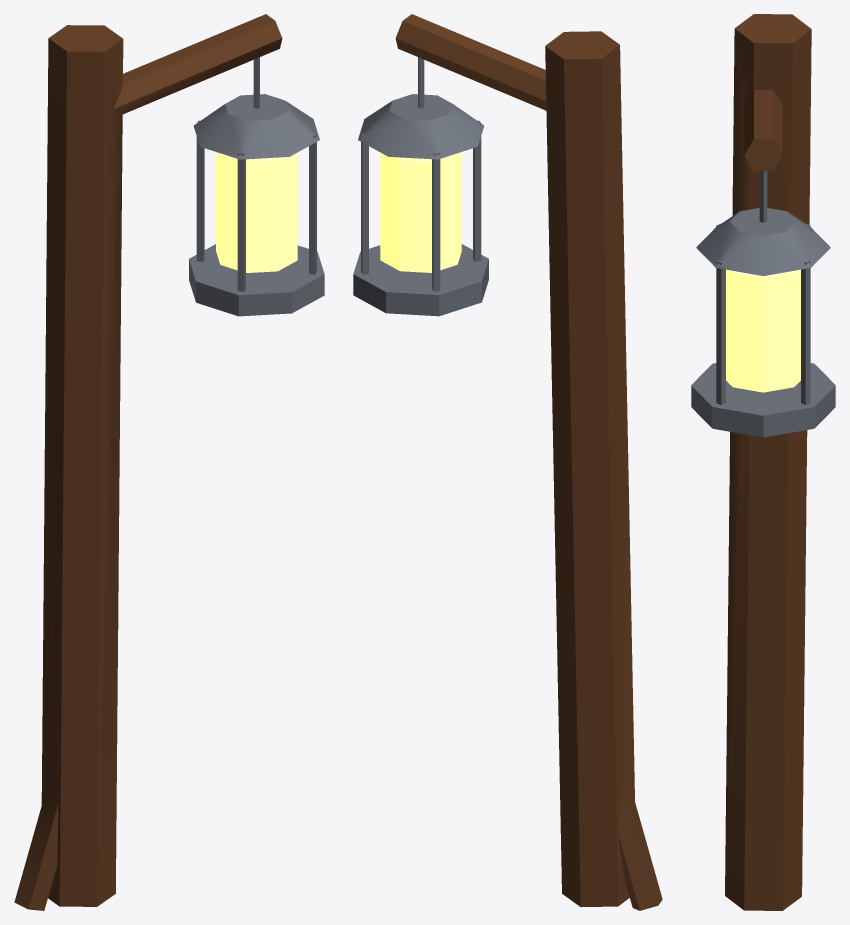
The model's file is LanternPost.fbx.
The picture shows the model from 3 angles, left to right: view 1: azimuth 30°, elevation 25°; view 2: azimuth 150°, elevation 25°; view 3: azimuth 270°, elevation 25°; orthographic projection. The views are drawn at different scales.
Visible parts, largest first — view 1: WoodDark, Steel, Glow; view 2: WoodDark, Steel, Glow; view 3: WoodDark, Steel, Glow.
Boxes of the visible parts, x1,y1,x2,y2 form: WoodDark: (14,14,282,910); Steel: (189,57,324,316); Glow: (216,152,297,272); WoodDark: (395,14,662,910); Steel: (353,57,488,316); Glow: (380,152,461,272); WoodDark: (725,14,811,910); Steel: (691,171,835,437); Glow: (726,269,800,392).
Size of the model in its own units: 3.71 by 10.06 by 1.5.
